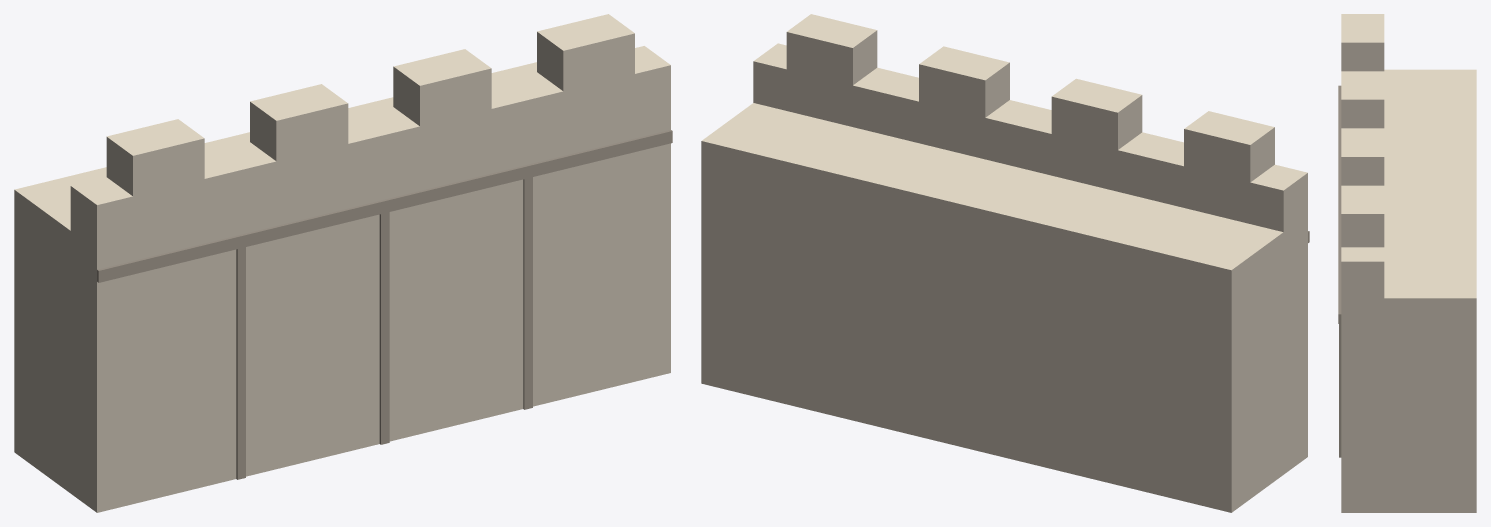
Rendered from W_SeaWall.fbx.
3 renders of one model, left to right at view 1: azimuth 30°, elevation 25°; view 2: azimuth 150°, elevation 25°; view 3: azimuth 270°, elevation 25°, orthographic. The views are drawn at different scales.
Parts seen in each view (by area): view 1: W_SeaWall; view 2: W_SeaWall; view 3: W_SeaWall.
Boxes of the visible parts, left/top/right/bottom form: W_SeaWall: left=14, top=14, right=672, bottom=512; W_SeaWall: left=701, top=14, right=1309, bottom=512; W_SeaWall: left=1338, top=14, right=1476, bottom=512.
Size of the model in its own units: 4 by 2.32 by 1.02.
